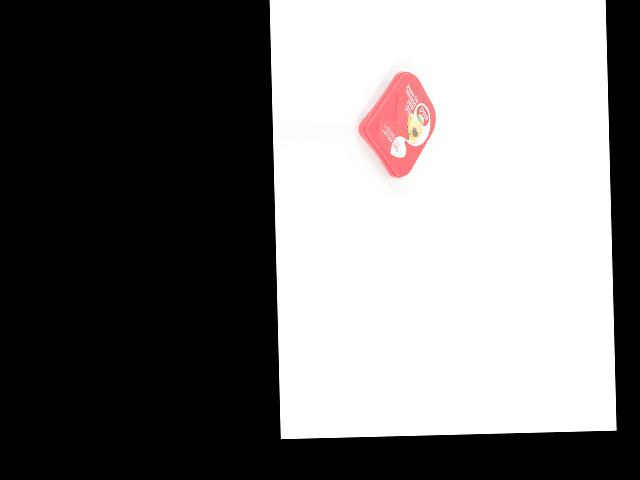cheese: (356, 70, 437, 179)
